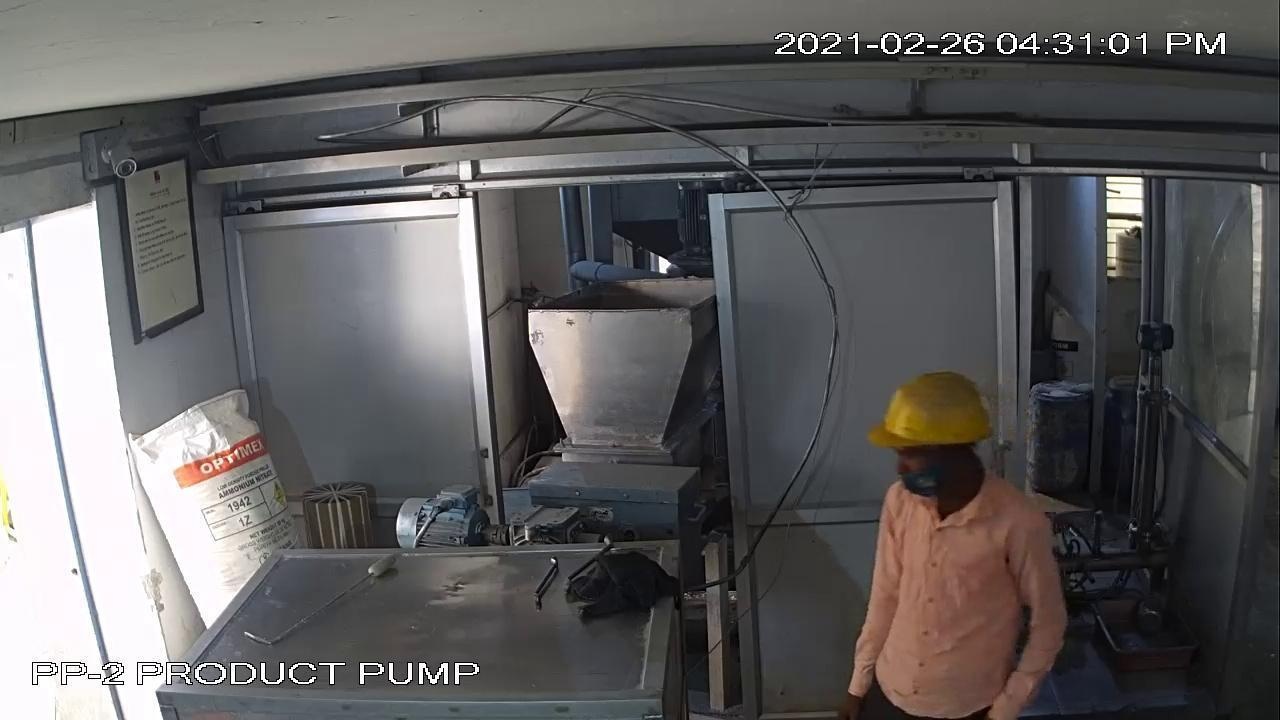helmet: (858, 361, 1011, 456)
